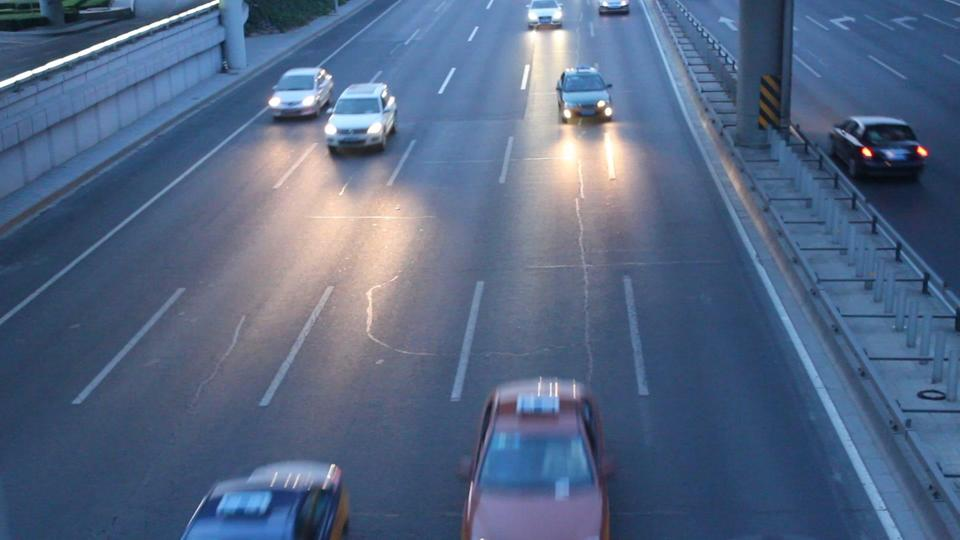car: (458, 377, 609, 539), (182, 447, 355, 540), (830, 116, 932, 179), (326, 81, 397, 155), (266, 65, 336, 122), (558, 66, 617, 122), (527, 1, 564, 29)
